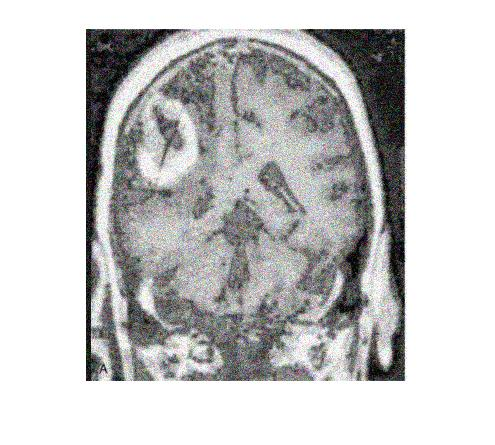Brain_Cancer: (135, 93, 200, 186)
